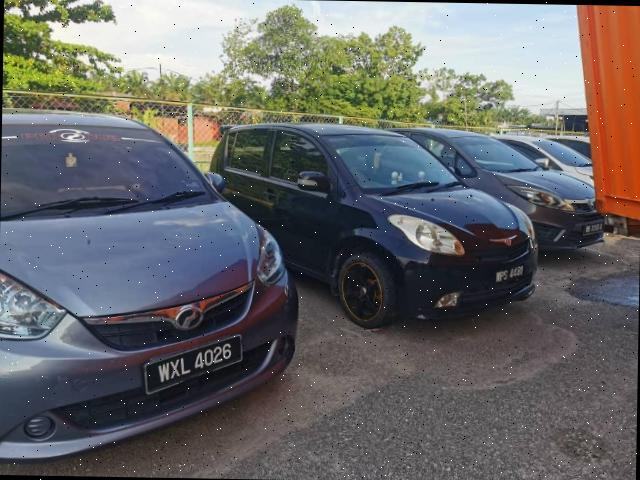License_Plate: (153, 334, 239, 395), (491, 257, 530, 294)
car: (1, 99, 301, 466), (213, 113, 549, 336), (382, 116, 613, 259)
